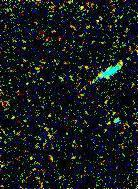star: (88, 61, 118, 91)
